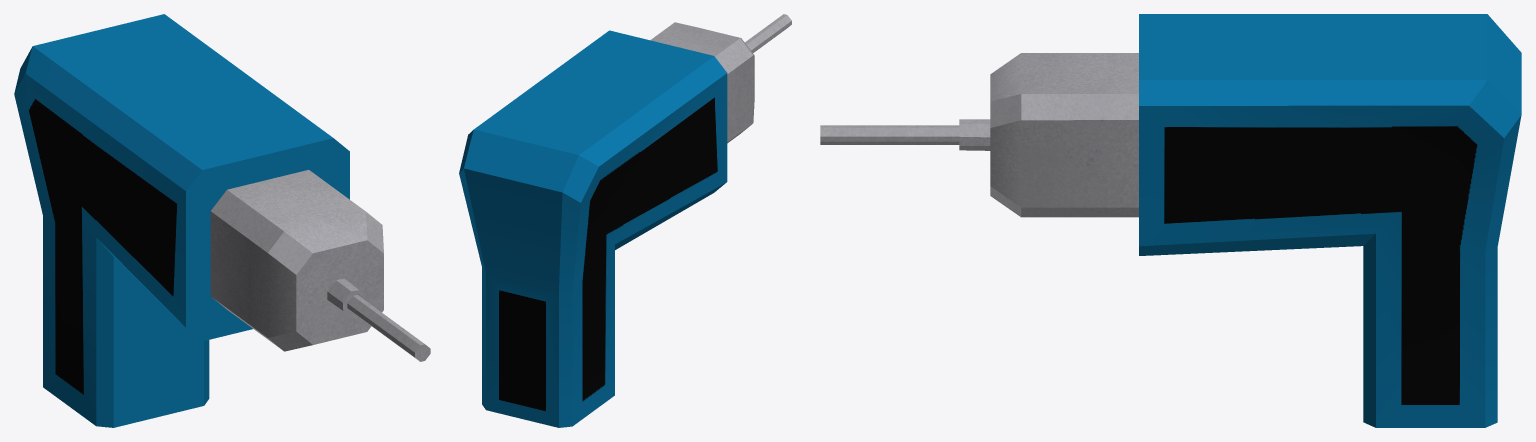
Rendered from Elec_drill.fbx.
3 views of the same model, side by side, from view 1: azimuth 30°, elevation 25°; view 2: azimuth 150°, elevation 25°; view 3: azimuth 270°, elevation 25° (orthographic). The views are drawn at different scales.
Visible parts, largest first — view 1: Cube; view 2: Cube; view 3: Cube.
Part boxes in pixels (left/top/right/bottom): Cube: left=14, top=14, right=430, bottom=427; Cube: left=459, top=14, right=791, bottom=427; Cube: left=820, top=14, right=1521, bottom=427.
Size of the model in its own units: 100 by 200 by 361.
1 material, 1 textured.
